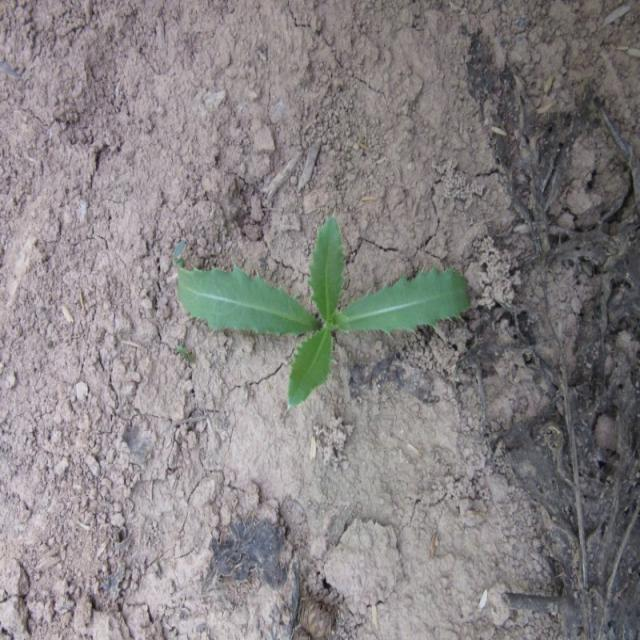field_thistle: (143, 229, 489, 402)
